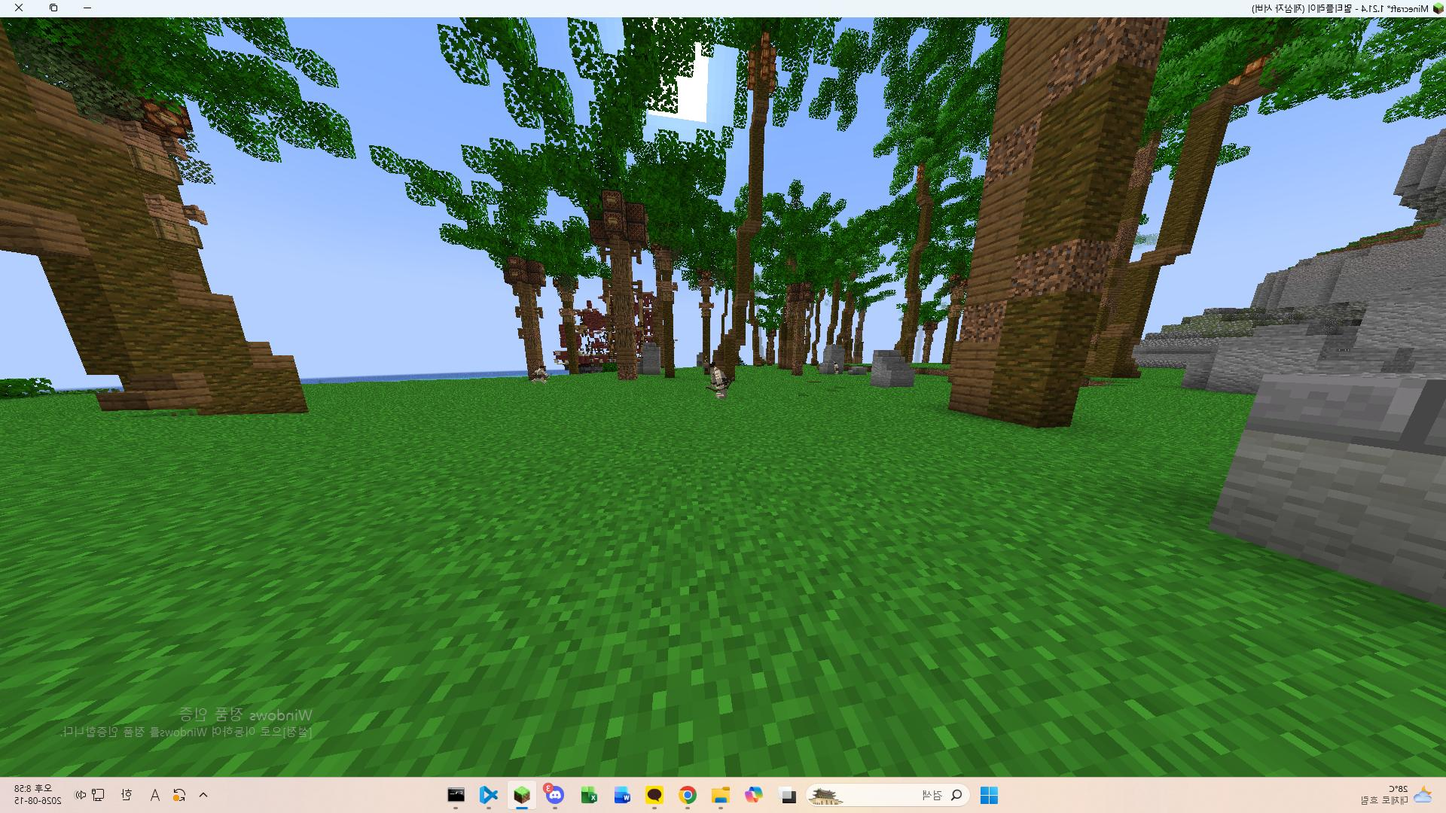bow_indian: (698, 357, 738, 408)
